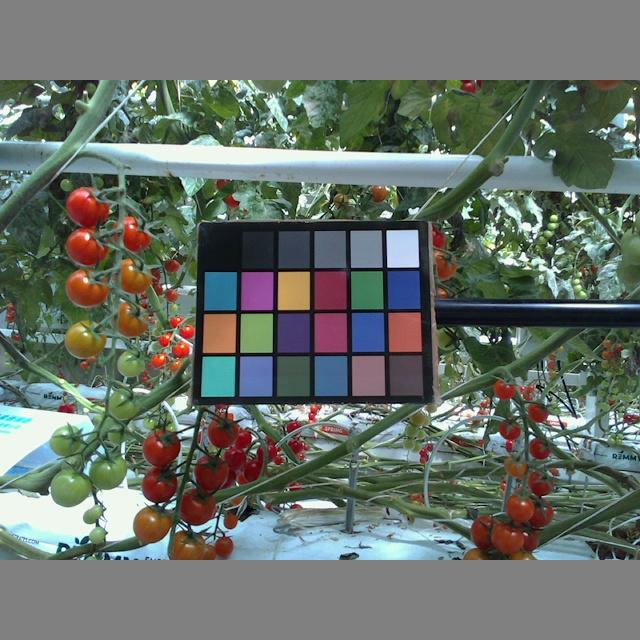green: (49, 469, 90, 507), (90, 454, 129, 487), (54, 425, 83, 454), (117, 350, 146, 378), (108, 387, 135, 417), (86, 526, 110, 543), (88, 504, 102, 523)
pink: (63, 187, 111, 232), (65, 321, 108, 360), (66, 227, 110, 264), (65, 267, 109, 304), (141, 429, 181, 465), (118, 256, 152, 296), (118, 300, 151, 339), (191, 457, 225, 493), (181, 492, 218, 525), (132, 510, 170, 542), (143, 470, 177, 503), (118, 215, 150, 249), (168, 531, 204, 560), (432, 246, 459, 282), (208, 417, 238, 447), (494, 522, 523, 552), (507, 496, 535, 523), (532, 496, 554, 528), (472, 516, 494, 547), (528, 471, 556, 494), (489, 378, 517, 399), (529, 436, 551, 461), (504, 457, 525, 479), (528, 402, 549, 423), (499, 420, 521, 439)
red: (224, 448, 246, 470), (256, 441, 279, 462), (248, 459, 263, 478)
